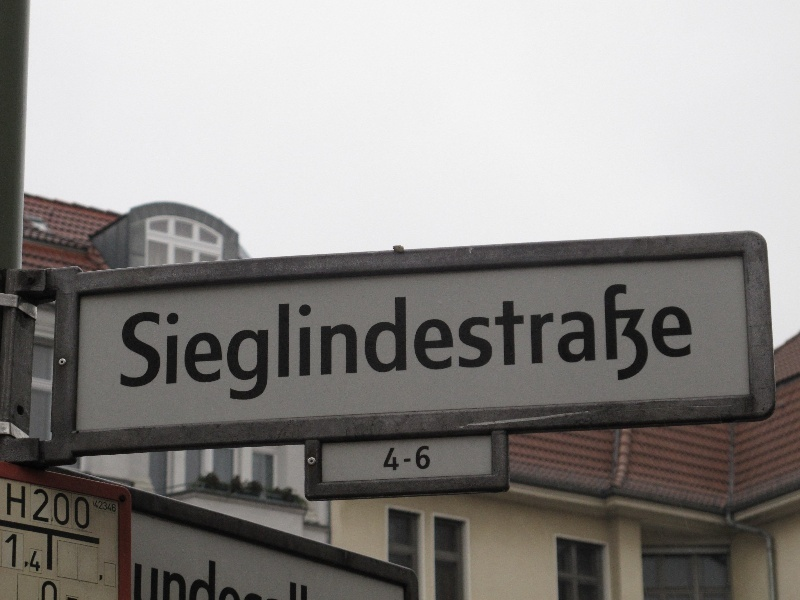text: (129, 279, 144, 408), (145, 279, 160, 408), (161, 279, 176, 408), (177, 279, 192, 408), (193, 279, 208, 408), (209, 279, 224, 408), (225, 279, 240, 408), (241, 279, 256, 408), (257, 279, 272, 408), (273, 279, 288, 408), (289, 279, 304, 408), (305, 279, 320, 408), (321, 279, 336, 408), (337, 279, 352, 408), (353, 279, 368, 408), (369, 279, 384, 408), (385, 279, 400, 408), (401, 279, 416, 408), (417, 279, 432, 408), (433, 279, 448, 408), (449, 279, 464, 408), (465, 279, 480, 408), (481, 279, 496, 408), (497, 279, 512, 408), (513, 279, 528, 408), (529, 279, 544, 408), (545, 279, 560, 408), (561, 279, 576, 408), (577, 279, 592, 408), (593, 279, 608, 408), (609, 279, 624, 408), (625, 279, 640, 408), (641, 279, 656, 408), (657, 279, 672, 408), (673, 279, 688, 408), (689, 279, 704, 408), (120, 279, 128, 408), (49, 488, 64, 530), (65, 488, 80, 530), (17, 531, 32, 572), (145, 560, 160, 600), (161, 560, 176, 600), (177, 560, 192, 600), (193, 560, 208, 600), (209, 560, 224, 600), (225, 560, 240, 600), (241, 560, 256, 600), (257, 560, 272, 600), (273, 560, 288, 600), (289, 560, 304, 600), (34, 488, 48, 530), (6, 531, 16, 572), (33, 531, 43, 572), (401, 446, 416, 473), (81, 488, 90, 530), (135, 560, 144, 600), (417, 446, 430, 473), (17, 483, 26, 518), (8, 483, 16, 518), (390, 446, 400, 473), (97, 500, 112, 513), (49, 581, 58, 600), (305, 560, 309, 600), (705, 279, 706, 408), (42, 581, 48, 600), (113, 500, 117, 513)
